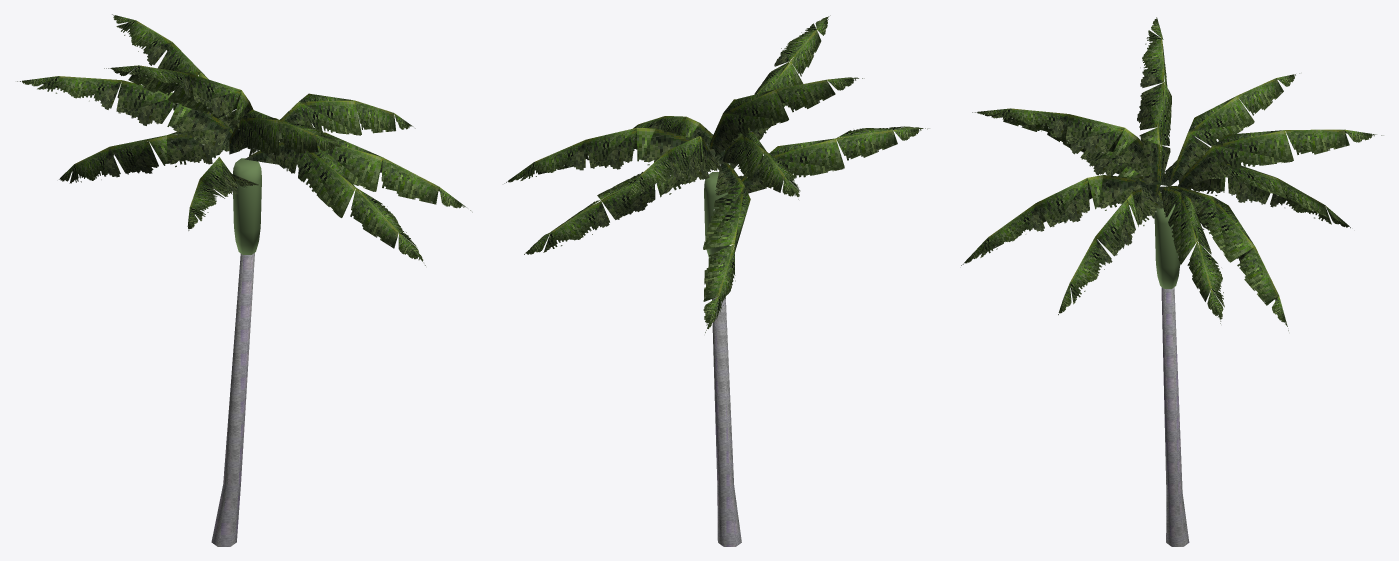
File: LandFX_TP-RoystoneaReg-01.dae
3 views of the same model, side by side, from view 1: azimuth 30°, elevation 25°; view 2: azimuth 150°, elevation 25°; view 3: azimuth 270°, elevation 25° (orthographic). The views are drawn at different scales.
Visible parts, largest first — view 1: Leaf-Palm-LongWithTexture (×9), Trunk-Palm-hex-01_1_1, Runk-Palm-Head-01_3_1; view 2: Leaf-Palm-LongWithTexture (×9), Trunk-Palm-hex-01_1_1, Runk-Palm-Head-01_3_1; view 3: Leaf-Palm-LongWithTexture (×10), Trunk-Palm-hex-01_1_1, Runk-Palm-Head-01_3_1.
Boxes of the visible parts, bbox=[...] form: Leaf-Palm-LongWithTexture (×9): bbox=[17, 14, 472, 265]; Trunk-Palm-hex-01_1_1: bbox=[211, 253, 254, 546]; Runk-Palm-Head-01_3_1: bbox=[233, 158, 261, 254]; Leaf-Palm-LongWithTexture (×9): bbox=[504, 15, 929, 332]; Trunk-Palm-hex-01_1_1: bbox=[712, 296, 741, 546]; Runk-Palm-Head-01_3_1: bbox=[704, 172, 729, 257]; Leaf-Palm-LongWithTexture (×10): bbox=[961, 17, 1383, 330]; Trunk-Palm-hex-01_1_1: bbox=[1161, 287, 1189, 546]; Runk-Palm-Head-01_3_1: bbox=[1154, 201, 1180, 288].
Bounding box in the file's own units: 234 × 263 × 320.
Materials: 4 (3 with a texture image).
